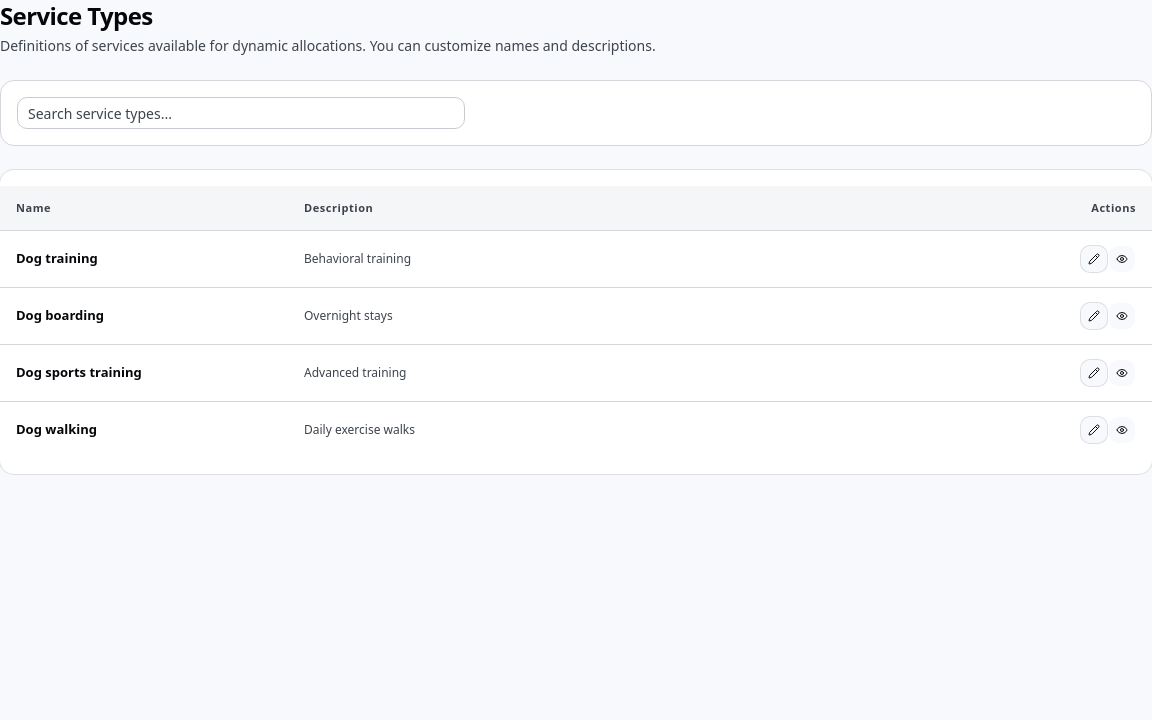
Test: ServiceTypesTable Component › should close the edit modal via the X button
Note: Open the modal
Click the button titled "Edit ". click: (1094, 258)
box: [1080, 244, 1108, 272]
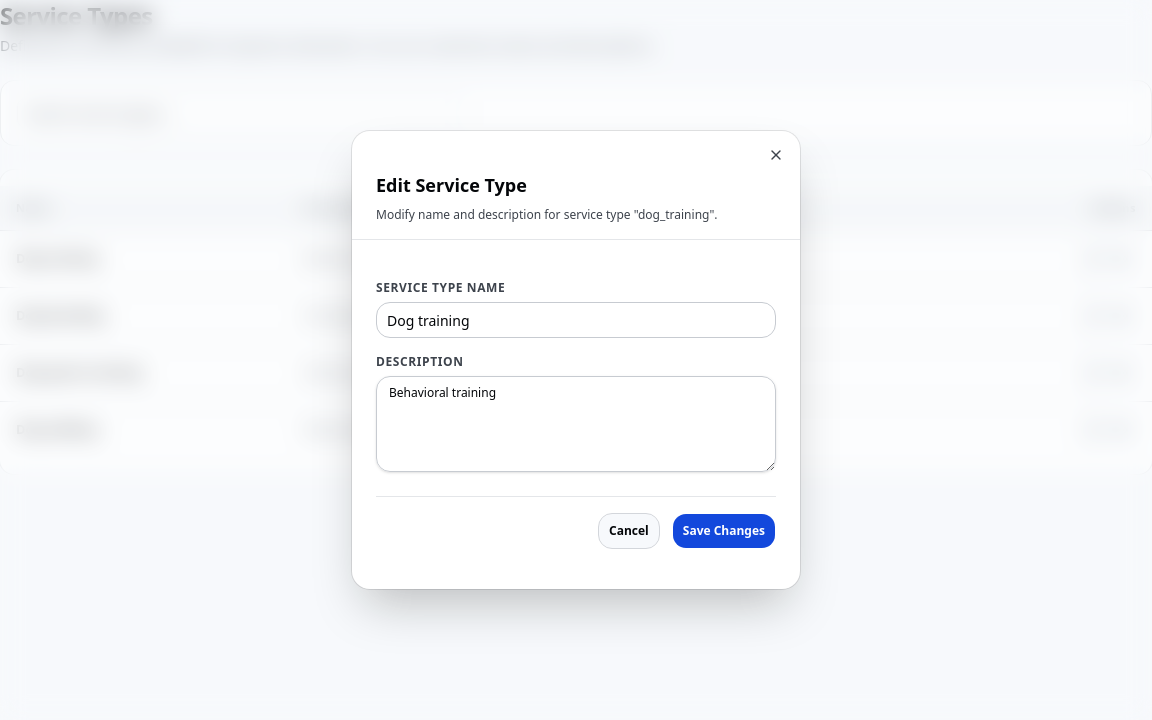
Check: the text "Edit Service Type" is shown, box [376, 173, 527, 197]
Note: The X close button is inside the modal card
Click the 1st button. click: (776, 155)
box: [768, 147, 784, 163]
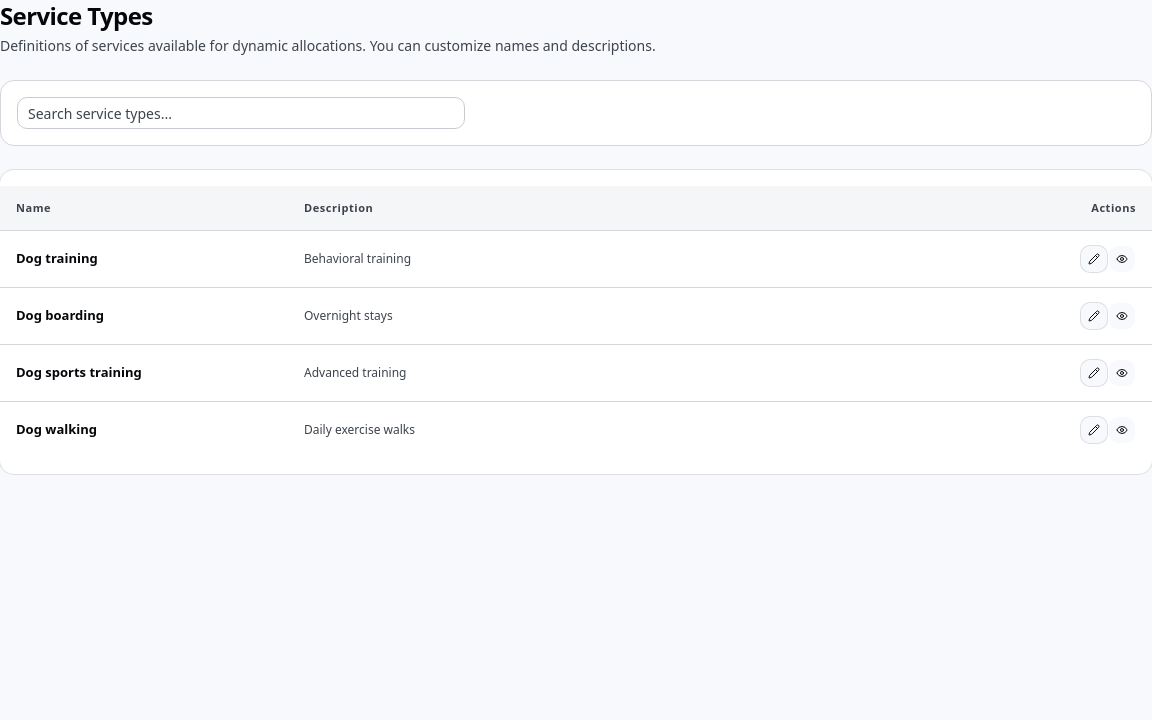
Check: the text "Edit Service Type" is gone
